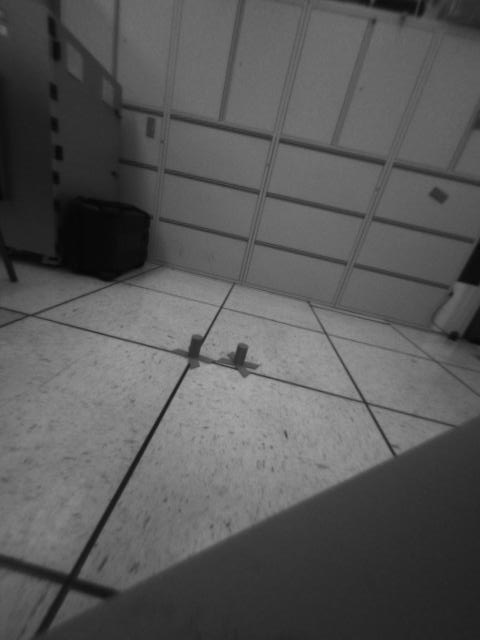X: (171, 333, 217, 370), (218, 343, 263, 378)
